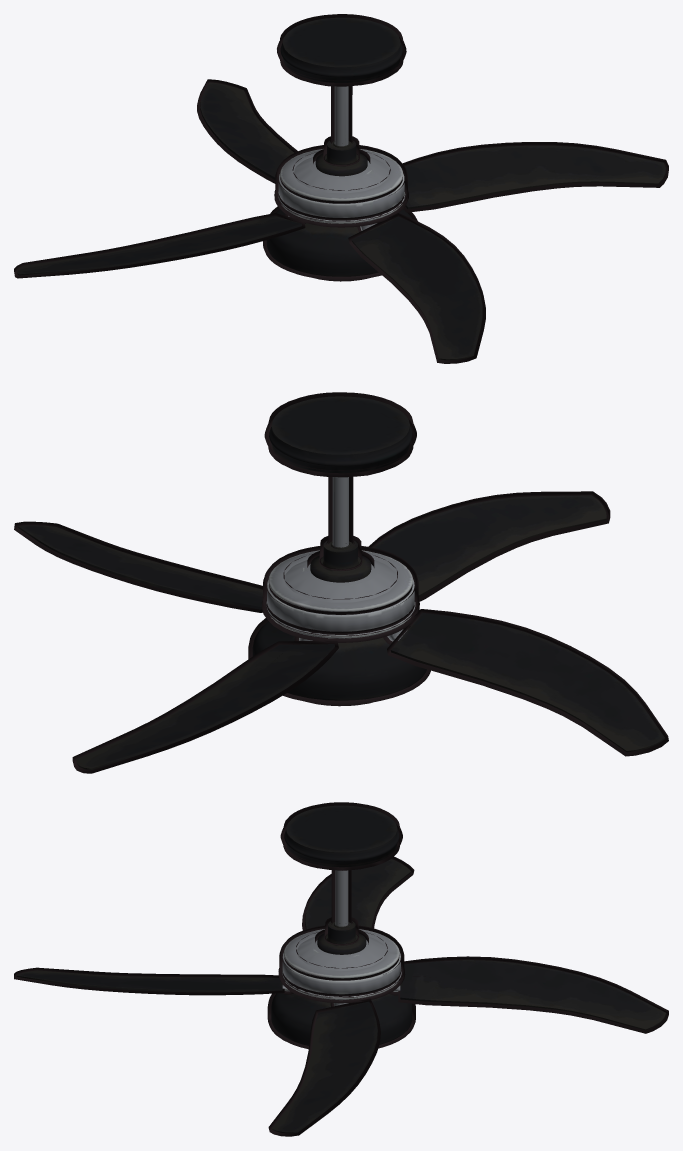
Rendered from SM_Int_CeilingFan.fbx.
3 renders of one model, top to bottom at view 1: azimuth 30°, elevation 25°; view 2: azimuth 150°, elevation 25°; view 3: azimuth 270°, elevation 25°, orthographic. The views are drawn at different scales.
Visible parts, largest first — view 1: SM_Int_CeilingFan; view 2: SM_Int_CeilingFan; view 3: SM_Int_CeilingFan.
Part boxes in pixels (x1,y1,x2,y2): SM_Int_CeilingFan: (14, 14, 668, 363); SM_Int_CeilingFan: (14, 392, 668, 773); SM_Int_CeilingFan: (14, 802, 668, 1136).
Bounding box in the file's own units: 1.47 × 0.5299 × 1.47.
